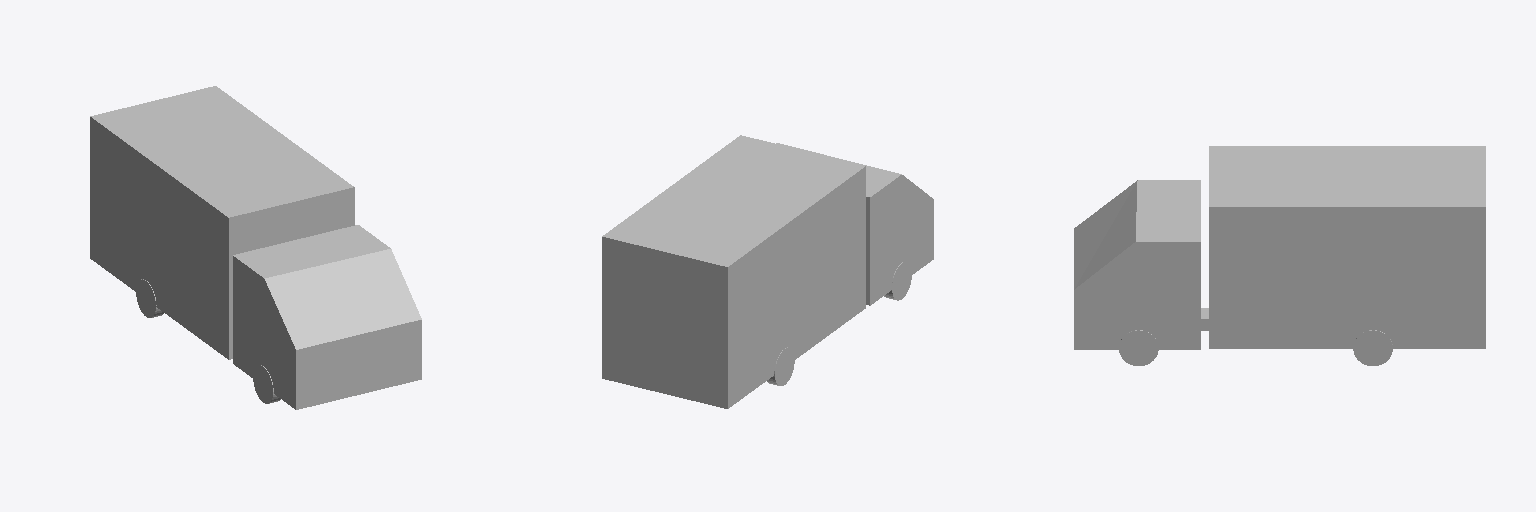
File: hyundai_porter.obj
3 renders of one model, left to right at view 1: azimuth 30°, elevation 25°; view 2: azimuth 150°, elevation 25°; view 3: azimuth 270°, elevation 25°, orthographic.
Parts seen in each view (by area): view 1: h-porter; view 2: h-porter; view 3: h-porter.
Boxes of the visible parts, box(x1,y1,x2,y2) form: h-porter: box(90, 86, 421, 409); h-porter: box(602, 135, 933, 408); h-porter: box(1074, 146, 1485, 365).
Bounding box in the file's own units: 36.8 × 44.06 × 104.